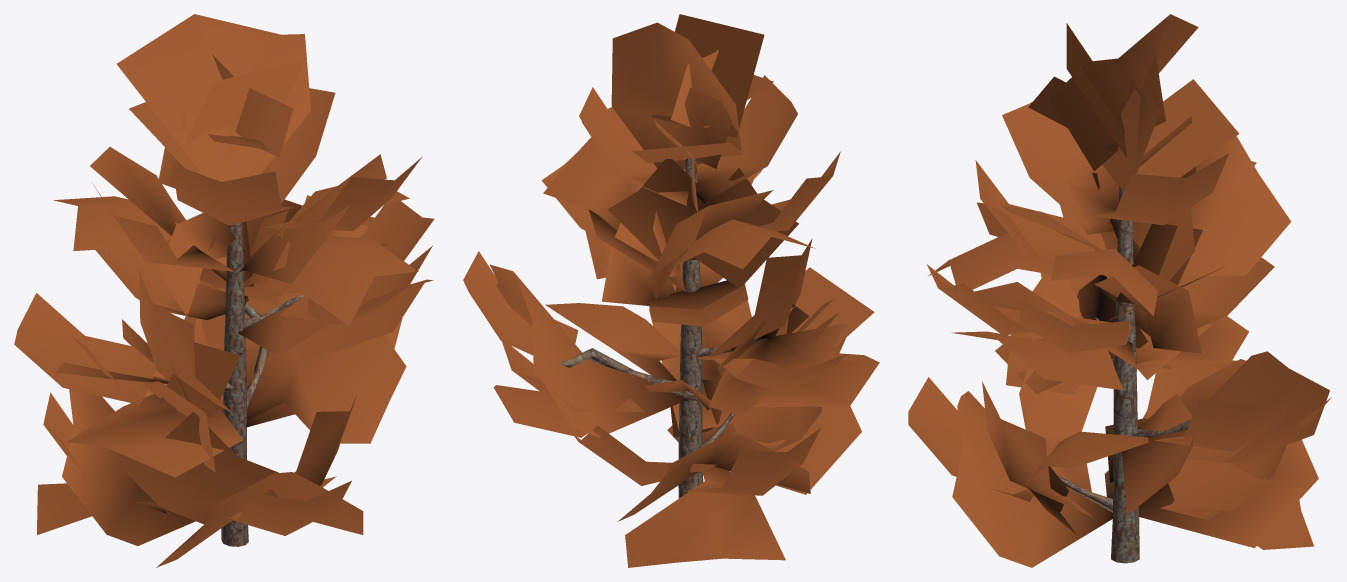
File: Fol_PineB.FBX
3 renders of one model, left to right at view 1: azimuth 30°, elevation 25°; view 2: azimuth 150°, elevation 25°; view 3: azimuth 270°, elevation 25°, orthographic. The views are drawn at different scales.
Visible parts, largest first — view 1: Pine_Needles2, Pine_Trunk2; view 2: Pine_Needles2, Pine_Trunk2; view 3: Pine_Needles2, Pine_Trunk2.
Part boxes in pixels (bbox=[...]): Pine_Needles2: bbox=[14, 14, 434, 567]; Pine_Trunk2: bbox=[165, 222, 304, 546]; Pine_Needles2: bbox=[463, 14, 879, 567]; Pine_Trunk2: bbox=[561, 158, 796, 498]; Pine_Needles2: bbox=[908, 14, 1331, 567]; Pine_Trunk2: bbox=[1057, 186, 1191, 563].
Size of the model in its own units: 305 by 383 by 275.
